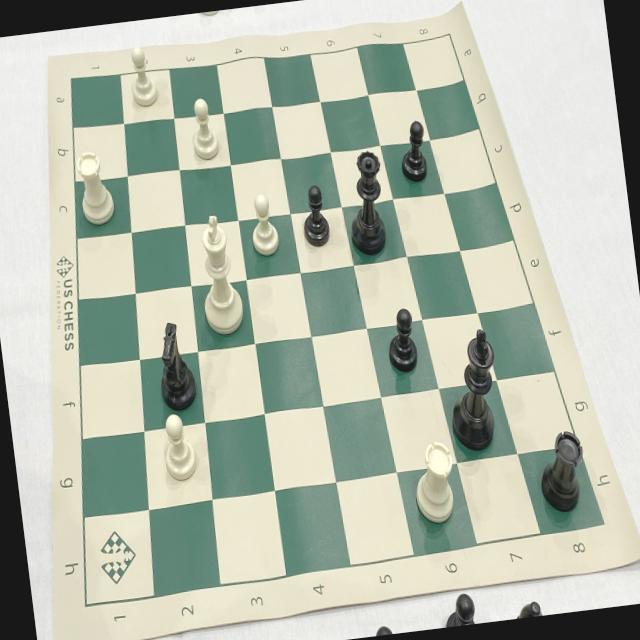black-king: (439, 320, 507, 460)
black-pawn: (378, 304, 422, 381), (394, 116, 432, 186), (296, 182, 334, 250)
black-queen: (337, 144, 395, 262)
black-rook: (532, 425, 590, 517), (149, 318, 200, 412)
white-king: (188, 210, 251, 338)
white-pawn: (154, 410, 201, 484), (242, 187, 282, 260), (184, 94, 223, 167), (122, 42, 160, 112)
white-rook: (406, 438, 462, 532), (68, 146, 120, 232)
